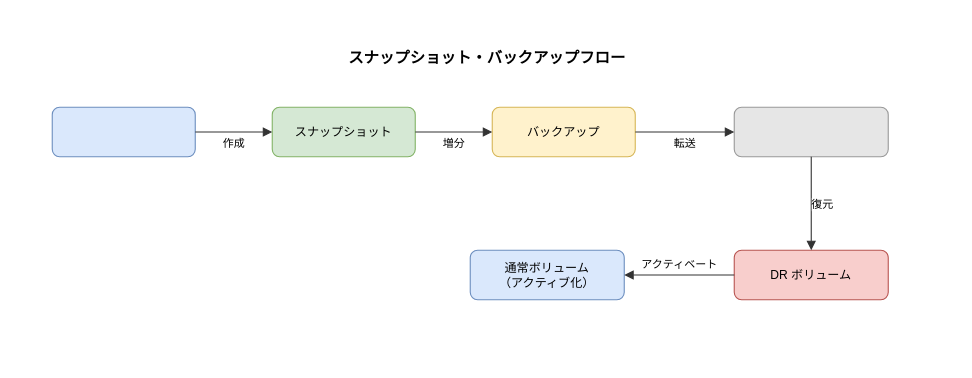
Image size: 972x378. Some labels were removed from this diagram. Here are the shapes that lost their labels. From the top down, the centre of each, then its label:
At (123,131): "ボリューム データ".
At (810,131): "バックアップ ストア (S3/NFS)".
